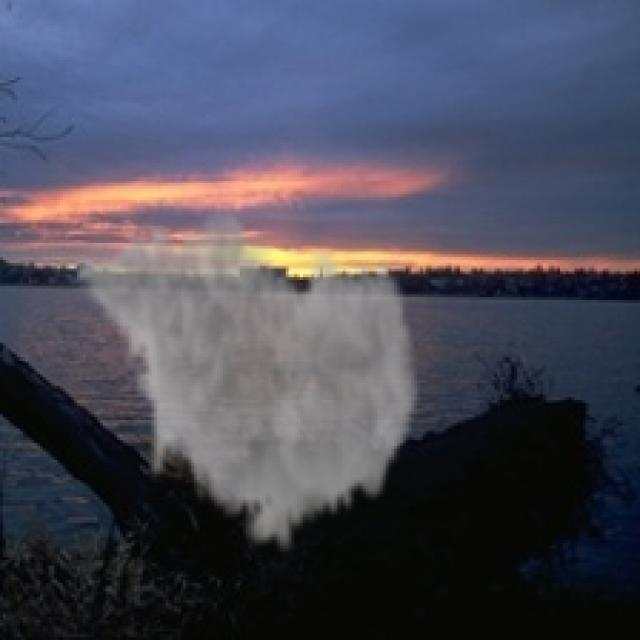Smoke: (71, 200, 423, 560)
